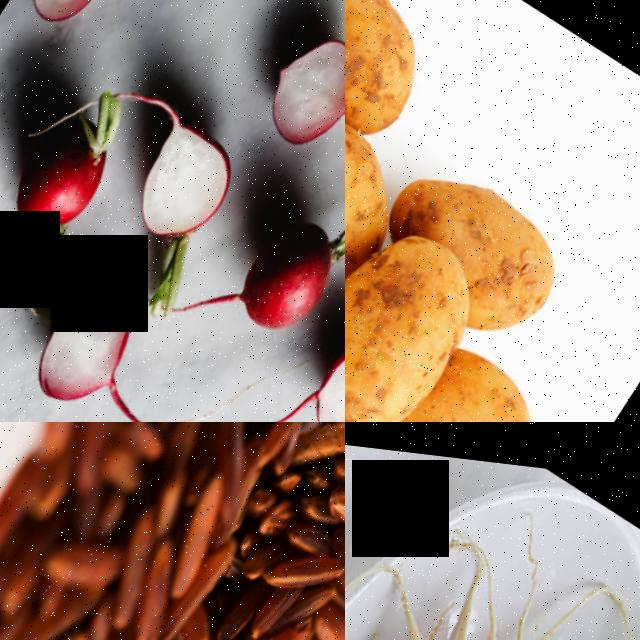potato: (345, 190, 513, 422), (383, 134, 597, 312), (387, 322, 590, 422), (345, 0, 458, 145)
radishes: (95, 95, 273, 297), (0, 79, 150, 256), (16, 260, 177, 422), (345, 557, 637, 640), (224, 163, 345, 349), (248, 4, 345, 161), (297, 299, 345, 422), (11, 0, 130, 41)
red rice: (0, 422, 345, 640), (111, 422, 345, 640)
